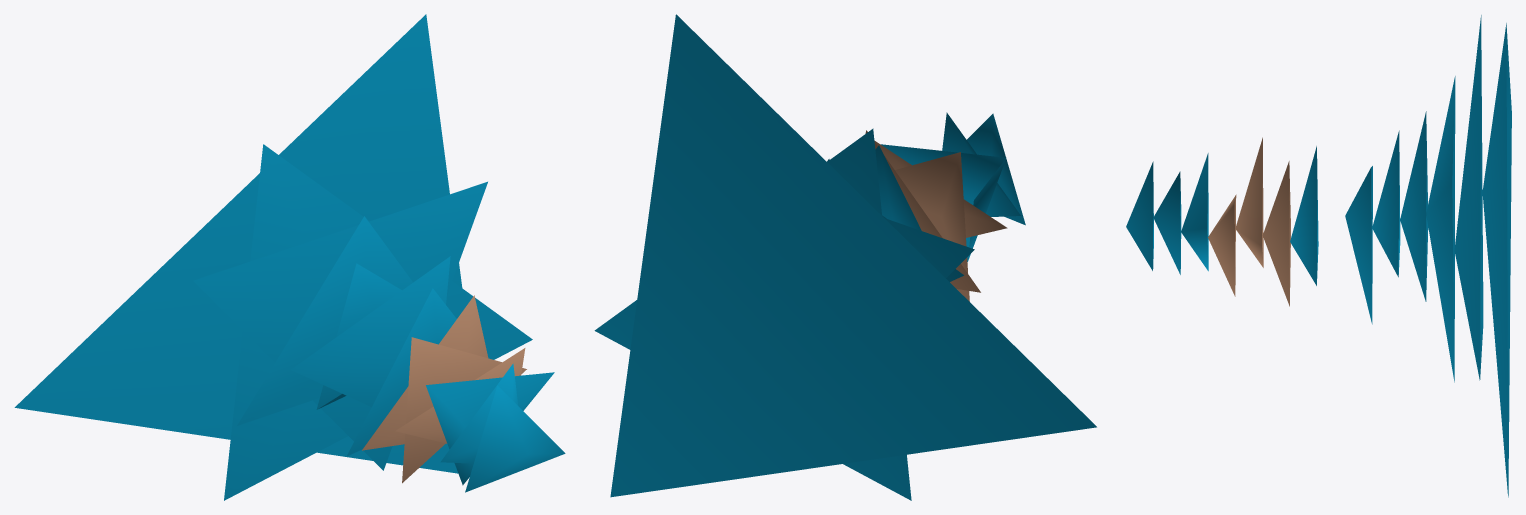
The model's file is 2014.04.25-Fleur_UvMapping.dae.
The picture shows the model from 3 angles, left to right: view 1: azimuth 30°, elevation 25°; view 2: azimuth 150°, elevation 25°; view 3: azimuth 270°, elevation 25°; orthographic projection. The views are drawn at different scales.
Visible parts, largest first — view 1: couche4_5, couche4_4, couche4_3, couche4_2, couche3_3, couche1_1, couche2_2, couche1_3, couche3_1, couche2_3, couche4_1, couche1_2 (+1 smaller); view 2: couche4_5, couche4_4, couche2_2, couche1_3, couche4_3, couche1_1, couche3_1, couche1_2, couche2_1, couche2_3; view 3: couche4_5, couche4_4, couche4_3, couche4_2, couche3_3, couche4_1, couche2_3, couche3_1, couche2_2, couche1_3, couche1_1, couche1_2 (+1 smaller).
Part boxes in pixels (x1,y1,x2,y2): couche4_5: (14, 14, 462, 473); couche4_4: (224, 144, 532, 500); couche4_3: (193, 181, 487, 470); couche4_2: (237, 216, 412, 425); couche3_3: (291, 256, 450, 407); couche1_1: (465, 385, 565, 492); couche2_2: (402, 337, 526, 483); couche1_3: (426, 372, 554, 485); couche3_1: (346, 288, 456, 456); couche2_3: (362, 295, 488, 450); couche4_1: (316, 263, 401, 409); couche1_2: (440, 363, 518, 463); couche4_5: (610, 14, 1096, 497); couche4_4: (594, 128, 911, 500); couche2_2: (895, 152, 969, 301); couche1_3: (881, 144, 1006, 261); couche4_3: (884, 218, 974, 278); couche1_1: (967, 113, 1025, 225); couche3_1: (875, 145, 921, 230); couche1_2: (942, 112, 1020, 216); couche2_1: (874, 140, 1007, 237); couche2_3: (865, 130, 980, 292); couche4_5: (1482, 23, 1511, 497); couche4_4: (1454, 15, 1483, 380); couche4_3: (1426, 76, 1455, 382); couche4_2: (1400, 111, 1428, 301); couche3_3: (1345, 166, 1372, 324); couche4_1: (1372, 130, 1400, 277); couche2_3: (1262, 161, 1290, 306); couche3_1: (1290, 146, 1318, 285); couche2_2: (1235, 137, 1263, 267); couche1_3: (1181, 153, 1208, 271); couche1_1: (1126, 161, 1153, 270); couche1_2: (1153, 171, 1181, 274).
Size of the model in its own units: 39.75 by 28.23 by 36.33.
